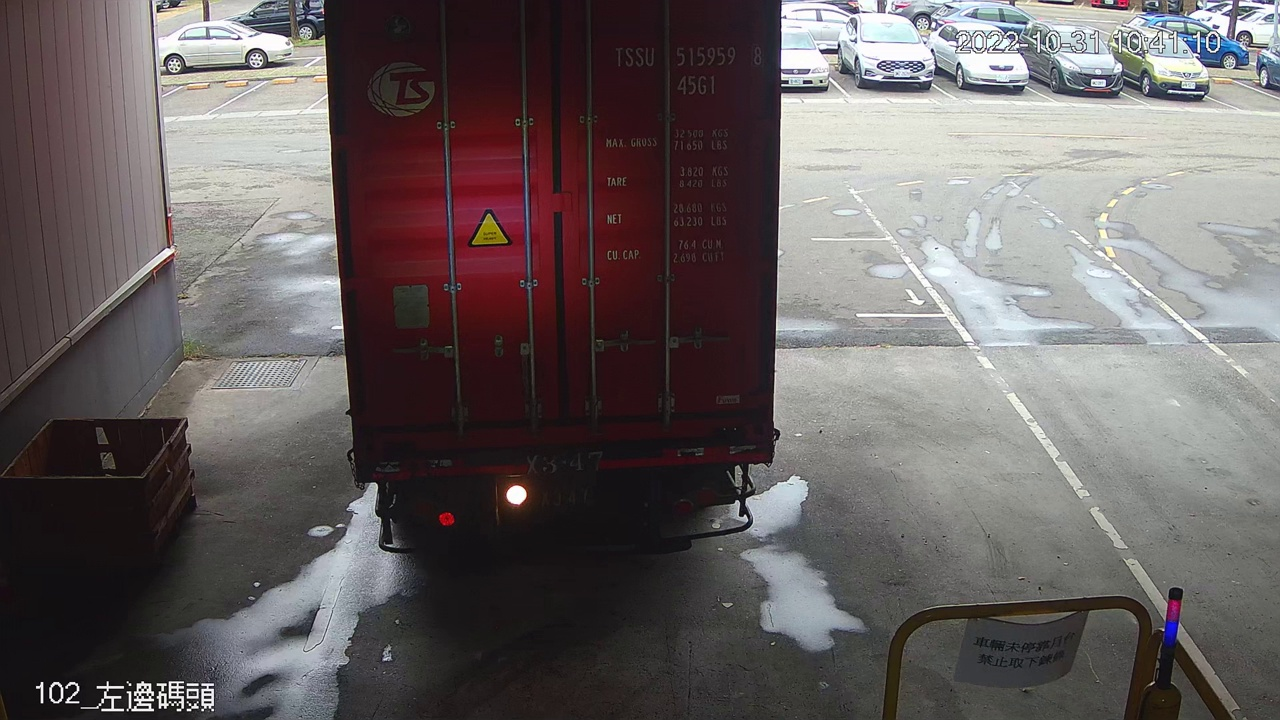container: (606, 36, 772, 103)
